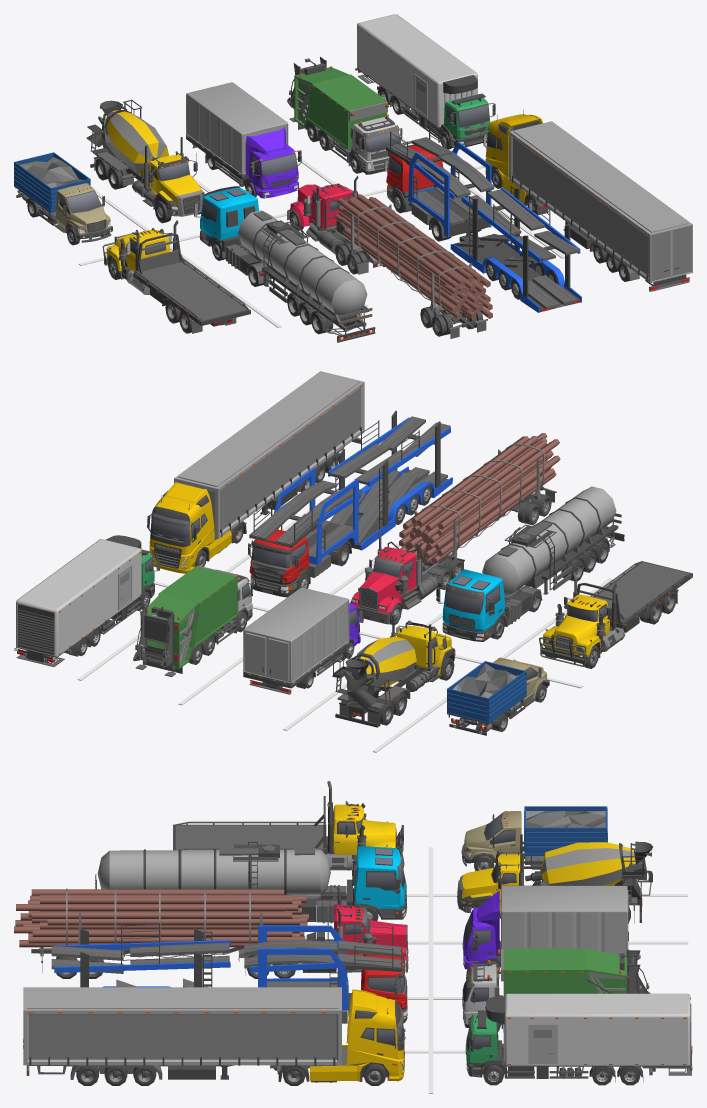
The model's file is Low_Poly_Trucks.glb.
The picture shows the model from 3 angles, top to bottom: view 1: azimuth 30°, elevation 25°; view 2: azimuth 150°, elevation 25°; view 3: azimuth 270°, elevation 25°; orthographic projection. The views are drawn at different scales.
Parts seen in each view (by area): view 1: Body_Textures_0 (×9), Trailer_Textures_0 (×3), Trailer 1_Textures_0, Trailer 2_Textures_0, Body 1_Textures_0, Body_999_0, Box001_20 - Default_0, Body_33_0, Body_22_0, Body_11_0, Body 2_Textures_0, Body 2_77_0 (+6 smaller); view 2: Body_Textures_0 (×9), Trailer_Textures_0 (×3), Trailer 1_Textures_0, Trailer 2_Textures_0, Body 1_Textures_0, Body_22_0, Box001_20 - Default_0, Body_666_0, Body_11_0, Body_33_0, Body 1_77_0, Body 2_Textures_0 (+3 smaller); view 3: Trailer_Textures_0 (×3), Body_Textures_0 (×9), Trailer 2_Textures_0, Trailer 1_Textures_0, Body_22_0, Body 1_Textures_0, Box001_20 - Default_0, Body_33_0, Body 2_Textures_0, Body 2_77_0, Body_666_0, Body_999_0 (+6 smaller).
Boxes of the visible parts, left/top/right/bottom form: Body_Textures_0 (×9): left=14, top=14, right=548, bottom=333; Trailer_Textures_0 (×3): left=238, top=121, right=692, bottom=342; Trailer 1_Textures_0: left=450, top=185, right=581, bottom=312; Trailer 2_Textures_0: left=386, top=122, right=494, bottom=237; Body 1_Textures_0: left=86, top=99, right=204, bottom=216; Body_999_0: left=245, top=127, right=298, bottom=198; Box001_20 - Default_0: left=78, top=136, right=564, bottom=327; Body_33_0: left=200, top=187, right=258, bottom=239; Body_22_0: left=485, top=114, right=542, bottom=203; Body_11_0: left=289, top=184, right=352, bottom=228; Body 2_Textures_0: left=104, top=109, right=168, bottom=172; Body 2_77_0: left=106, top=110, right=168, bottom=175; Body_Textures_0 (×9): left=14, top=491, right=692, bottom=735; Trailer_Textures_0 (×3): left=174, top=371, right=624, bottom=596; Trailer 1_Textures_0: left=328, top=410, right=452, bottom=550; Trailer 2_Textures_0: left=249, top=467, right=361, bottom=564; Body 1_Textures_0: left=331, top=615, right=455, bottom=727; Body_22_0: left=149, top=482, right=231, bottom=573; Box001_20 - Default_0: left=77, top=509, right=612, bottom=752; Body_666_0: left=543, top=594, right=609, bottom=656; Body_11_0: left=350, top=547, right=416, bottom=613; Body_33_0: left=442, top=569, right=504, bottom=631; Body 1_77_0: left=397, top=626, right=452, bottom=674; Body 2_Textures_0: left=351, top=639, right=416, bottom=686; Trailer_Textures_0 (×3): left=14, top=841, right=341, bottom=1079; Body_Textures_0 (×9): left=173, top=781, right=692, bottom=1082; Trailer 2_Textures_0: left=244, top=924, right=402, bottom=1009; Trailer 1_Textures_0: left=51, top=923, right=230, bottom=987; Body_22_0: left=309, top=989, right=404, bottom=1081; Body 1_Textures_0: left=457, top=834, right=652, bottom=923; Box001_20 - Default_0: left=405, top=847, right=688, bottom=1093; Body_33_0: left=354, top=846, right=406, bottom=908; Body 2_Textures_0: left=525, top=843, right=637, bottom=885; Body 2_77_0: left=541, top=842, right=635, bottom=885; Body_666_0: left=333, top=804, right=395, bottom=854; Body_999_0: left=463, top=890, right=499, bottom=969.
Size of the model in its own units: 38.1 by 6.31 by 44.52.
Materials: 11 (1 with a texture image).
